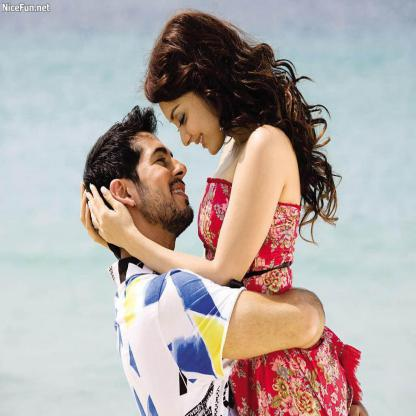face: (130, 136, 196, 226), (156, 79, 228, 155)
